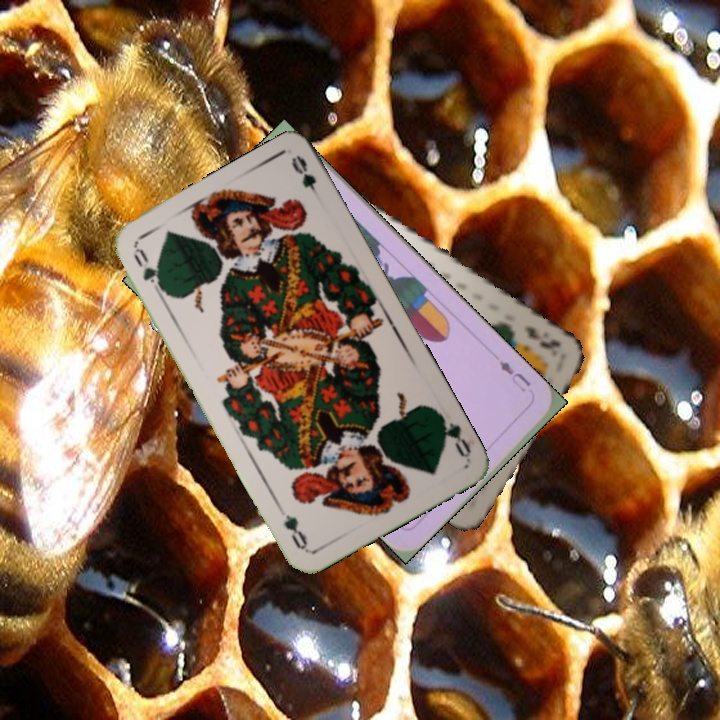EK: (520, 322, 564, 360)
EU: (495, 356, 533, 395)
GO: (129, 243, 169, 299), (432, 407, 474, 460)
